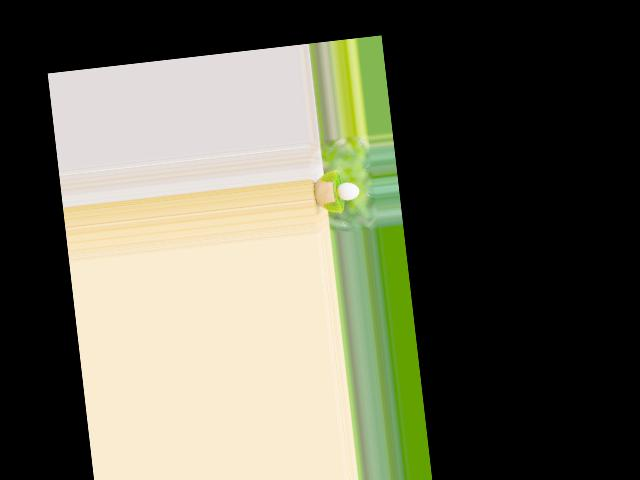egg: (335, 180, 359, 200)
